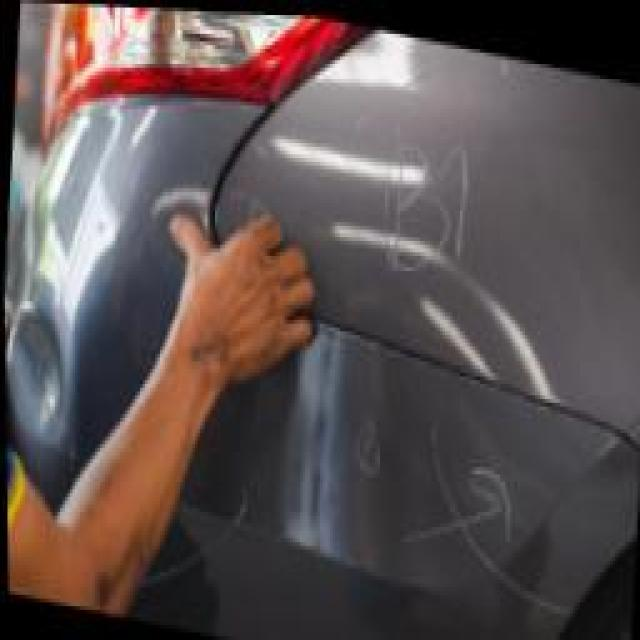Bumper: (2, 264, 584, 640)
Fender: (225, 11, 634, 372)
